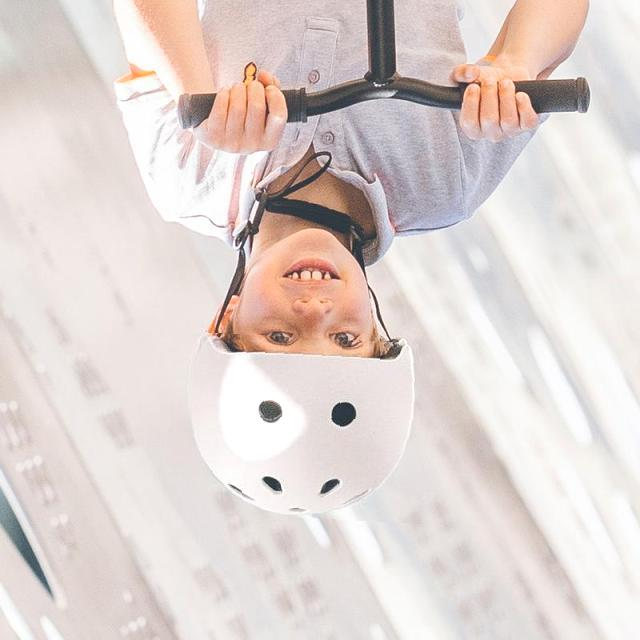helmet: (186, 334, 417, 520)
